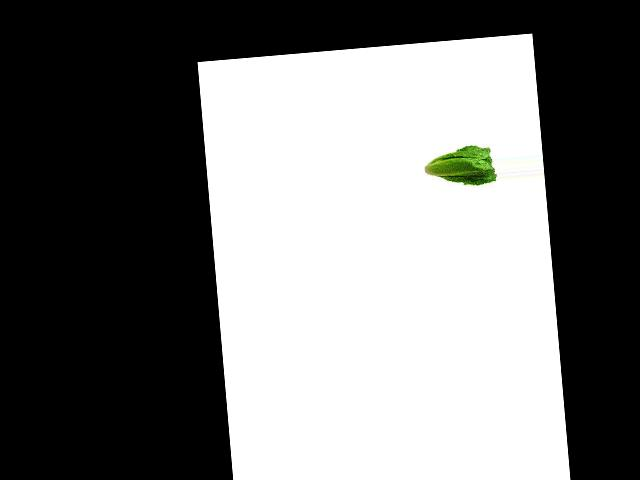lettuce: (421, 141, 498, 193)
